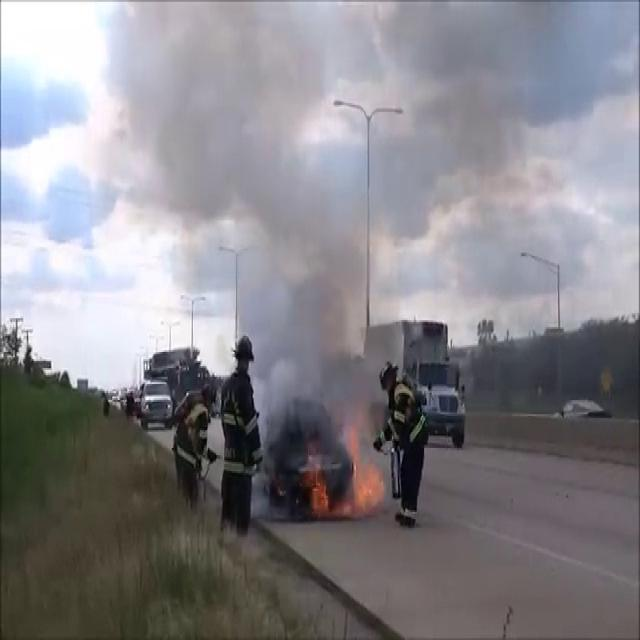Fire: (306, 428, 387, 524)
Smoke: (92, 2, 384, 428)
